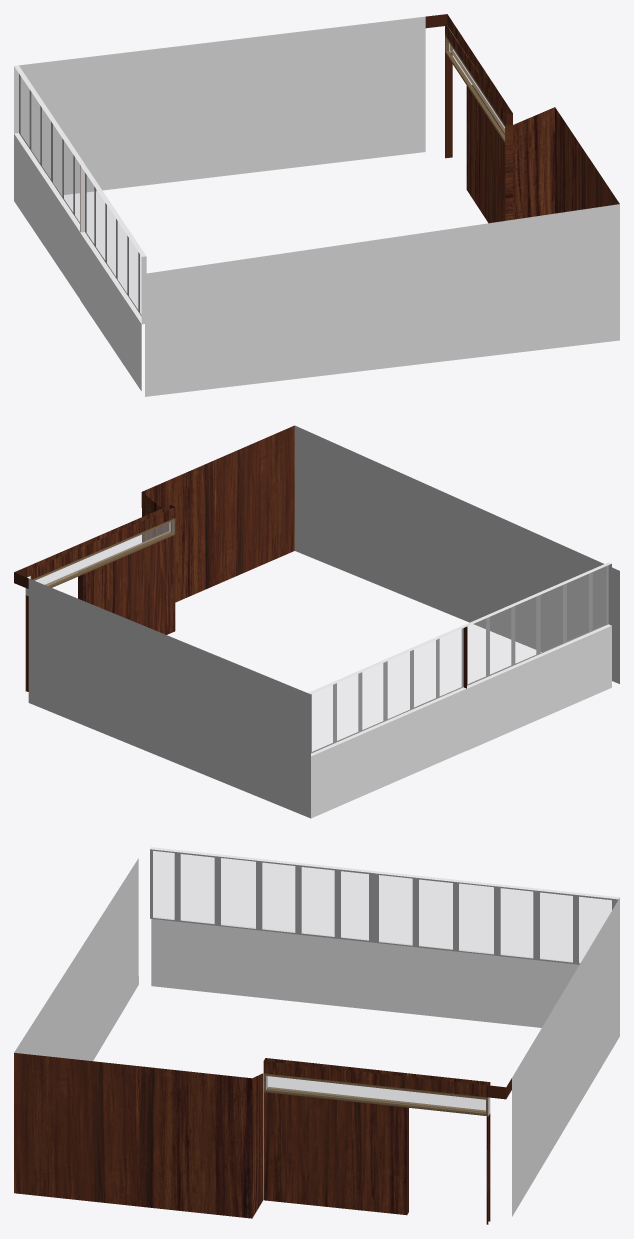
The model's file is lab_2_abajo.glb.
3 renders of one model, top to bottom at view 1: azimuth 30°, elevation 25°; view 2: azimuth 150°, elevation 25°; view 3: azimuth 270°, elevation 25°, orthographic. The views are drawn at different scales.
Parts seen in each view (by area): view 1: aula base.012; view 2: aula base.012; view 3: aula base.012.
Boxes of the visible parts, x1=… form: aula base.012: x1=14, y1=14, x2=619, y2=396; aula base.012: x1=14, y1=425, x2=619, y2=818; aula base.012: x1=14, y1=847, x2=619, y2=1224.
Size of the model in its own units: 65.23 by 17.7 by 69.13.
5 materials, 2 textured.
